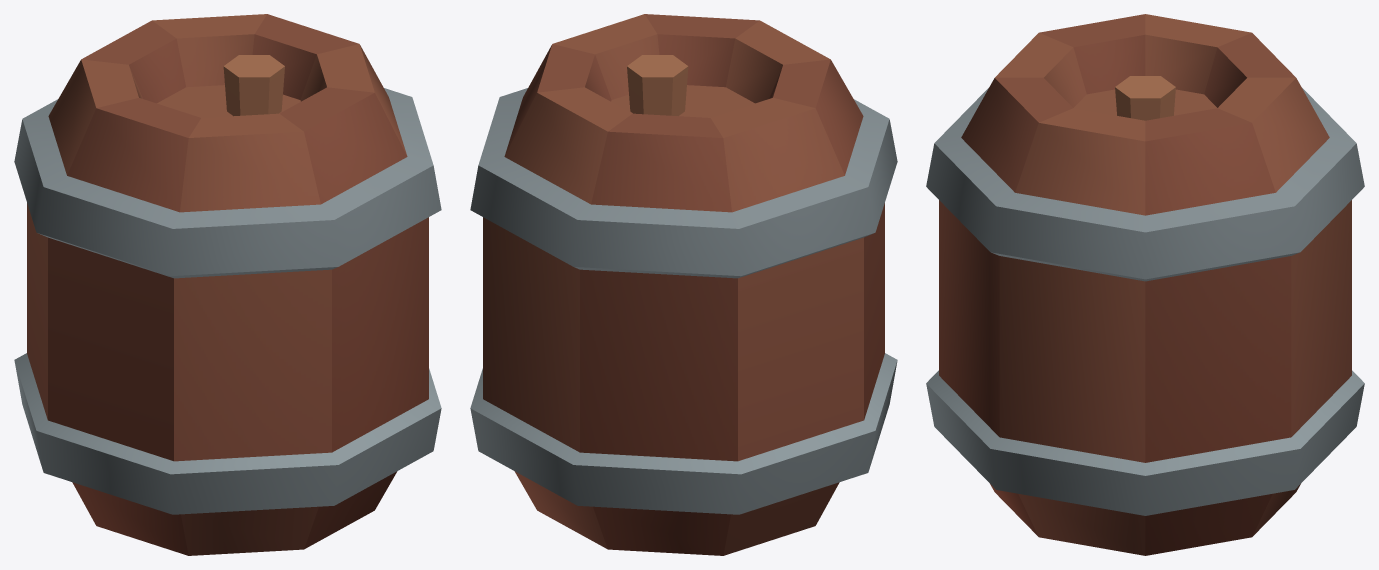
Rendered from barrel.glb.
The picture shows the model from 3 angles, left to right: view 1: azimuth 30°, elevation 25°; view 2: azimuth 150°, elevation 25°; view 3: azimuth 270°, elevation 25°; orthographic projection.
Parts seen in each view (by area): view 1: barrel; view 2: barrel; view 3: barrel.
Boxes of the visible parts, x1,y1,x2,y2 form: barrel: [14, 14, 441, 555]; barrel: [470, 14, 897, 555]; barrel: [926, 14, 1364, 555].
Size of the model in its own units: 0.2015 by 0.2117 by 0.2015.
